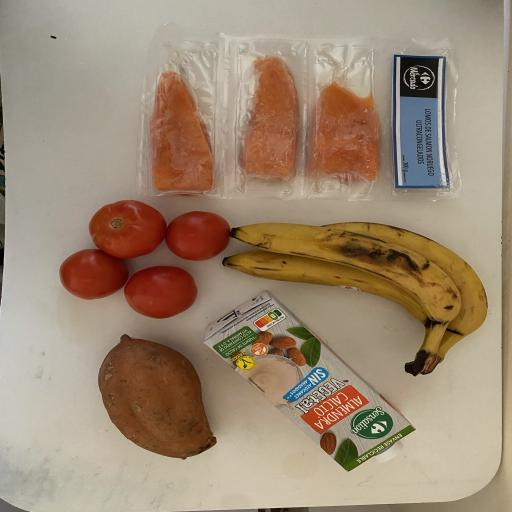banana: (226, 217, 464, 377), (218, 248, 457, 376), (311, 216, 491, 376)
milk_almendra: (199, 288, 423, 476)
salmon: (142, 66, 219, 198), (232, 52, 304, 192), (305, 81, 386, 192)
sweet_potato: (92, 330, 223, 462)
tomato: (84, 197, 169, 264), (121, 261, 204, 321), (55, 246, 132, 304), (163, 208, 233, 263)
